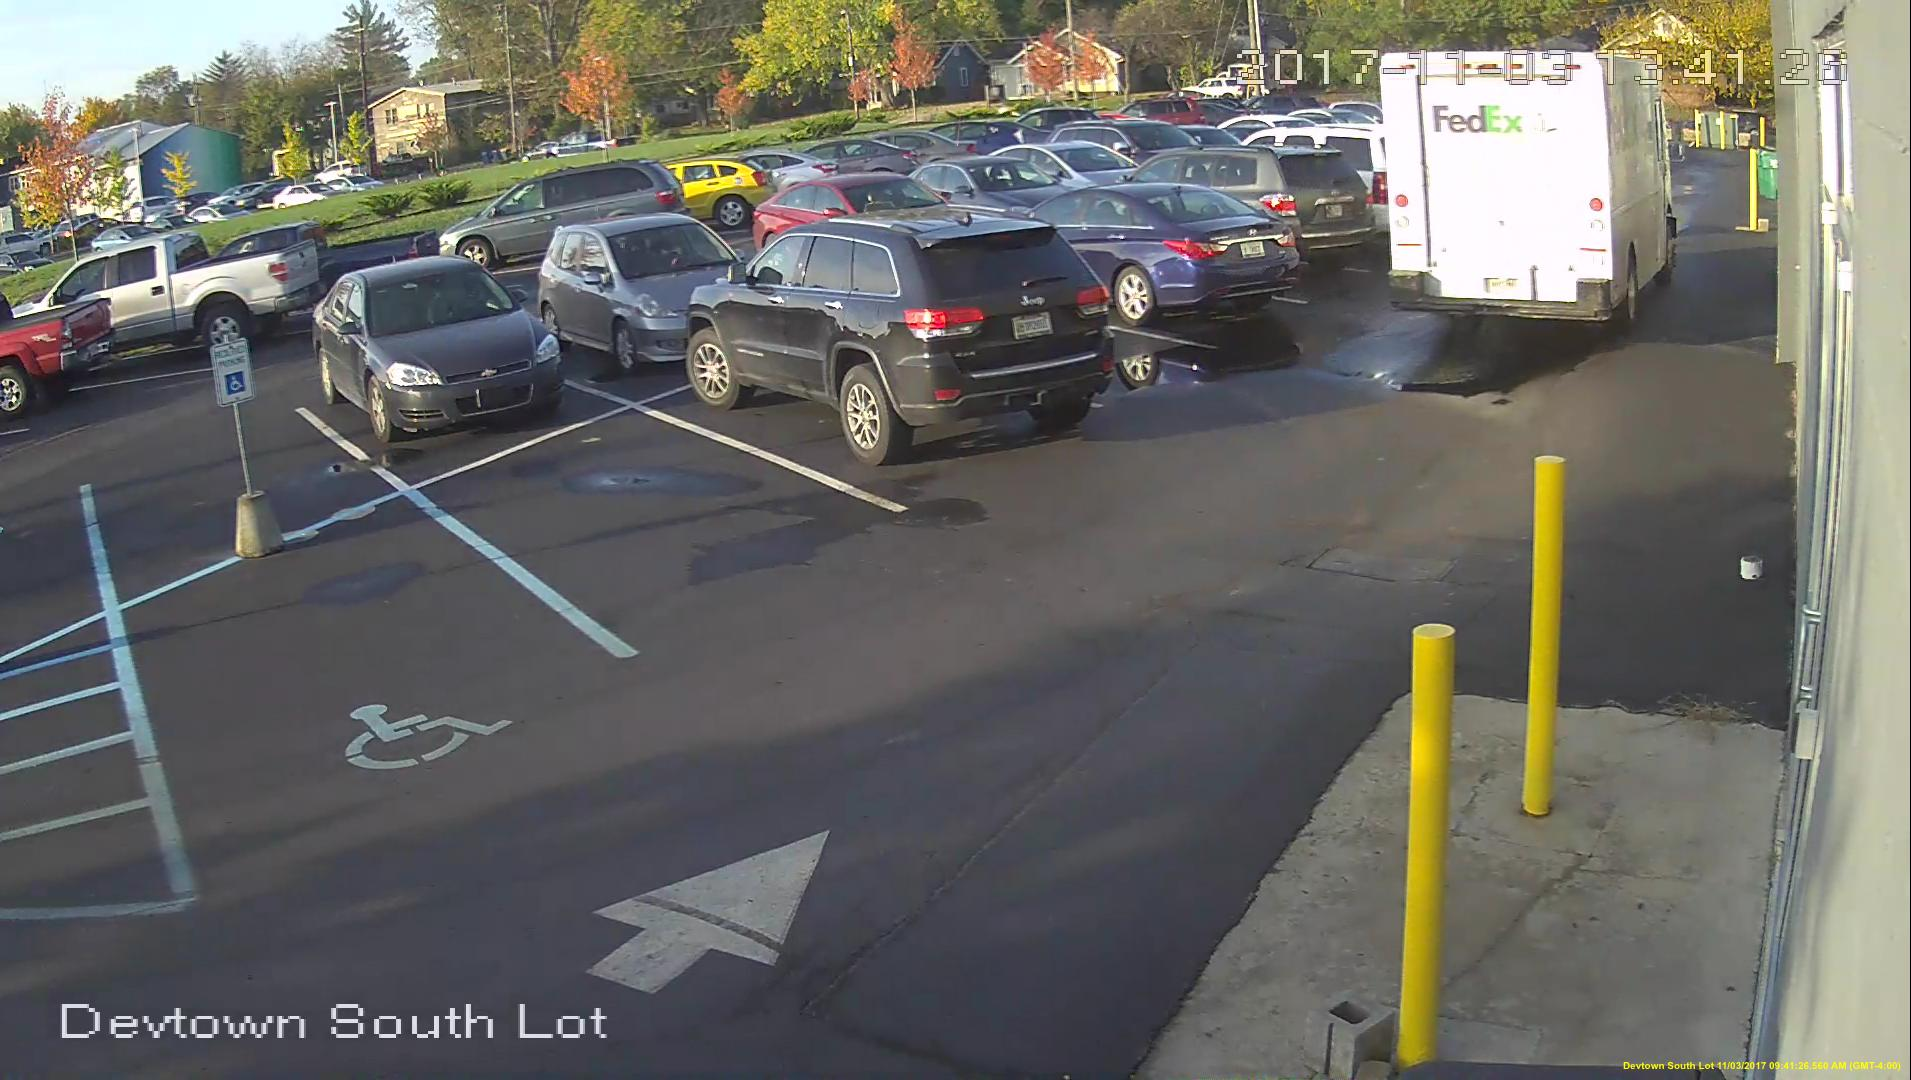fedex_truck: (1373, 47, 1683, 328)
